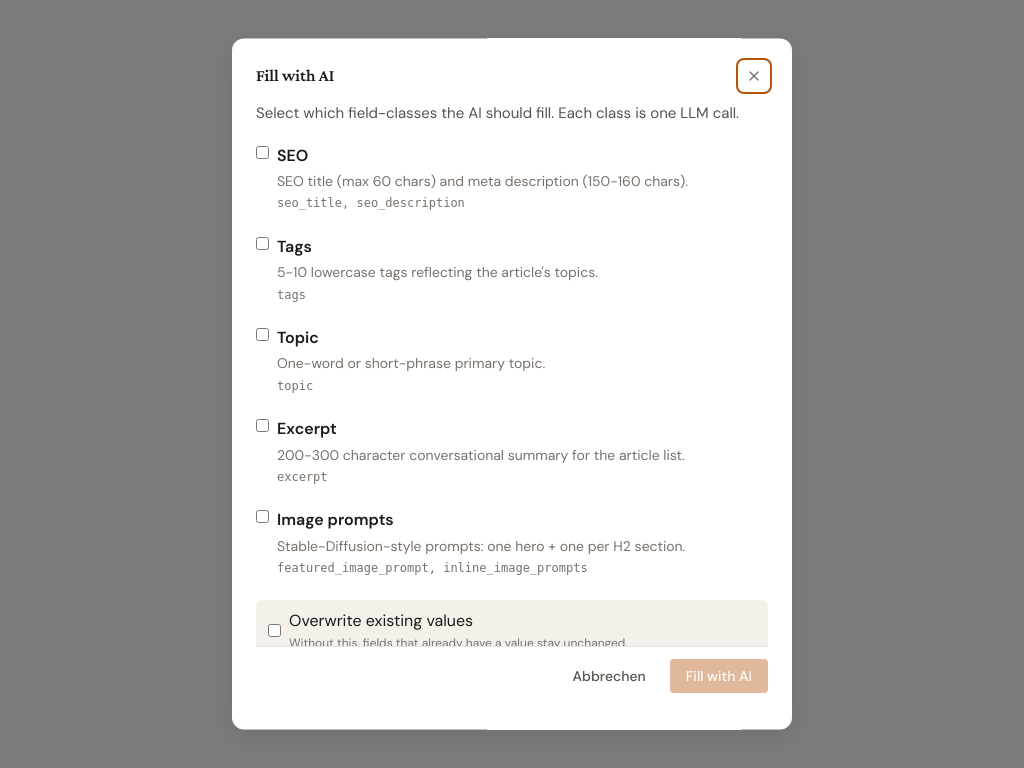
Test: FieldClassDialog › submit is disabled until at least one class is selected
Check: the button with test id "field-class-submit" is disabled, box [670,660,768,694]
Click the checkbox with test id "field-class-checkbox-seo". click: point(262, 152)
box: [256,146,269,159]
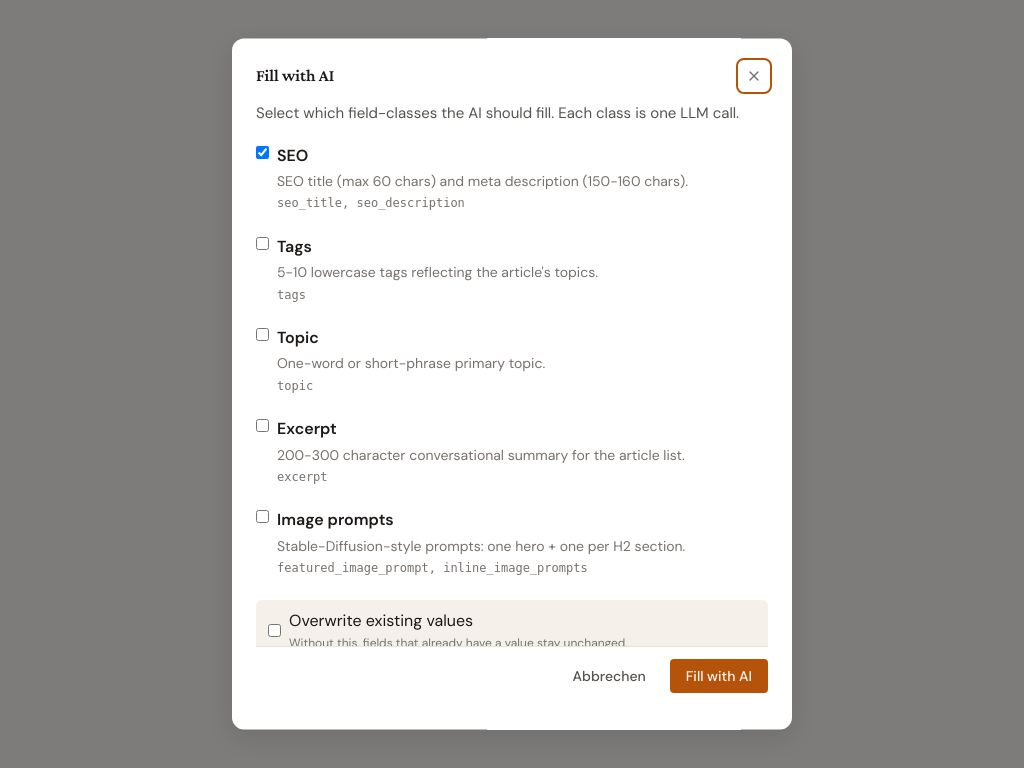
Check: the button with test id "field-class-submit" is enabled, box [670,660,768,694]
